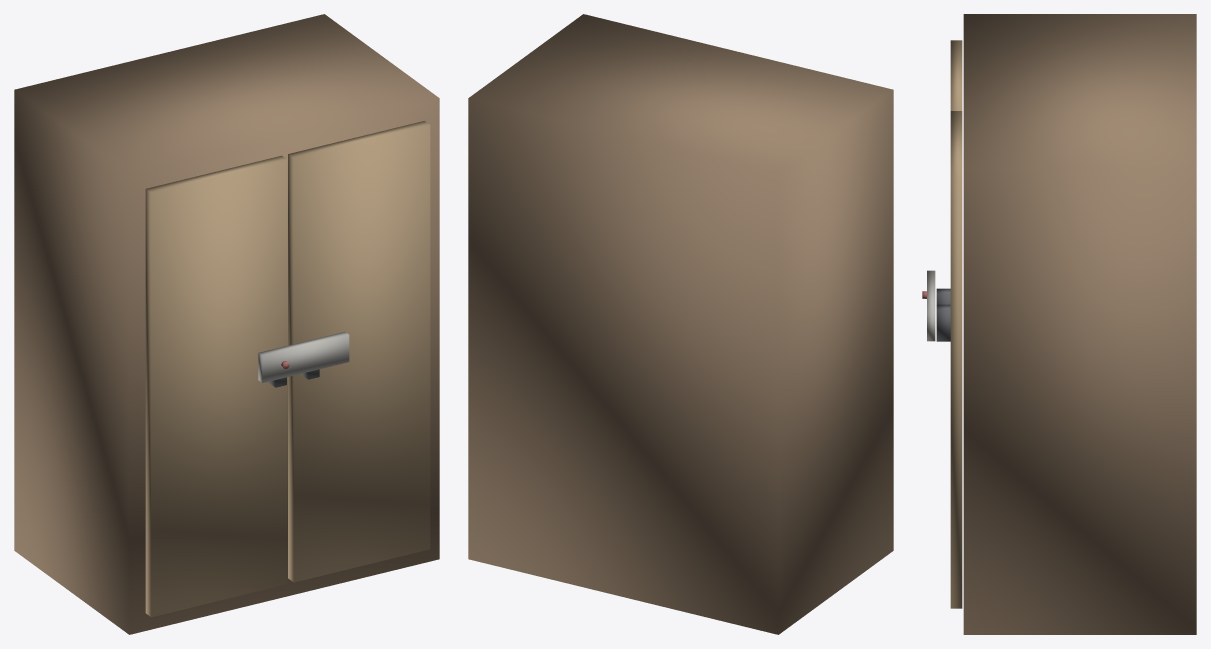
File: mechanical_control_cabinet__deep.glb
3 views of the same model, side by side, from view 1: azimuth 30°, elevation 25°; view 2: azimuth 150°, elevation 25°; view 3: azimuth 270°, elevation 25° (orthographic).
Parts seen in each view (by area): view 1: world; view 2: world; view 3: world.
Part boxes in pixels (bbox=[...]): world: bbox=[14, 14, 439, 634]; world: bbox=[468, 14, 893, 634]; world: bbox=[922, 14, 1196, 634].
Size of the model in its own units: 0.95 by 1.35 by 0.718.
